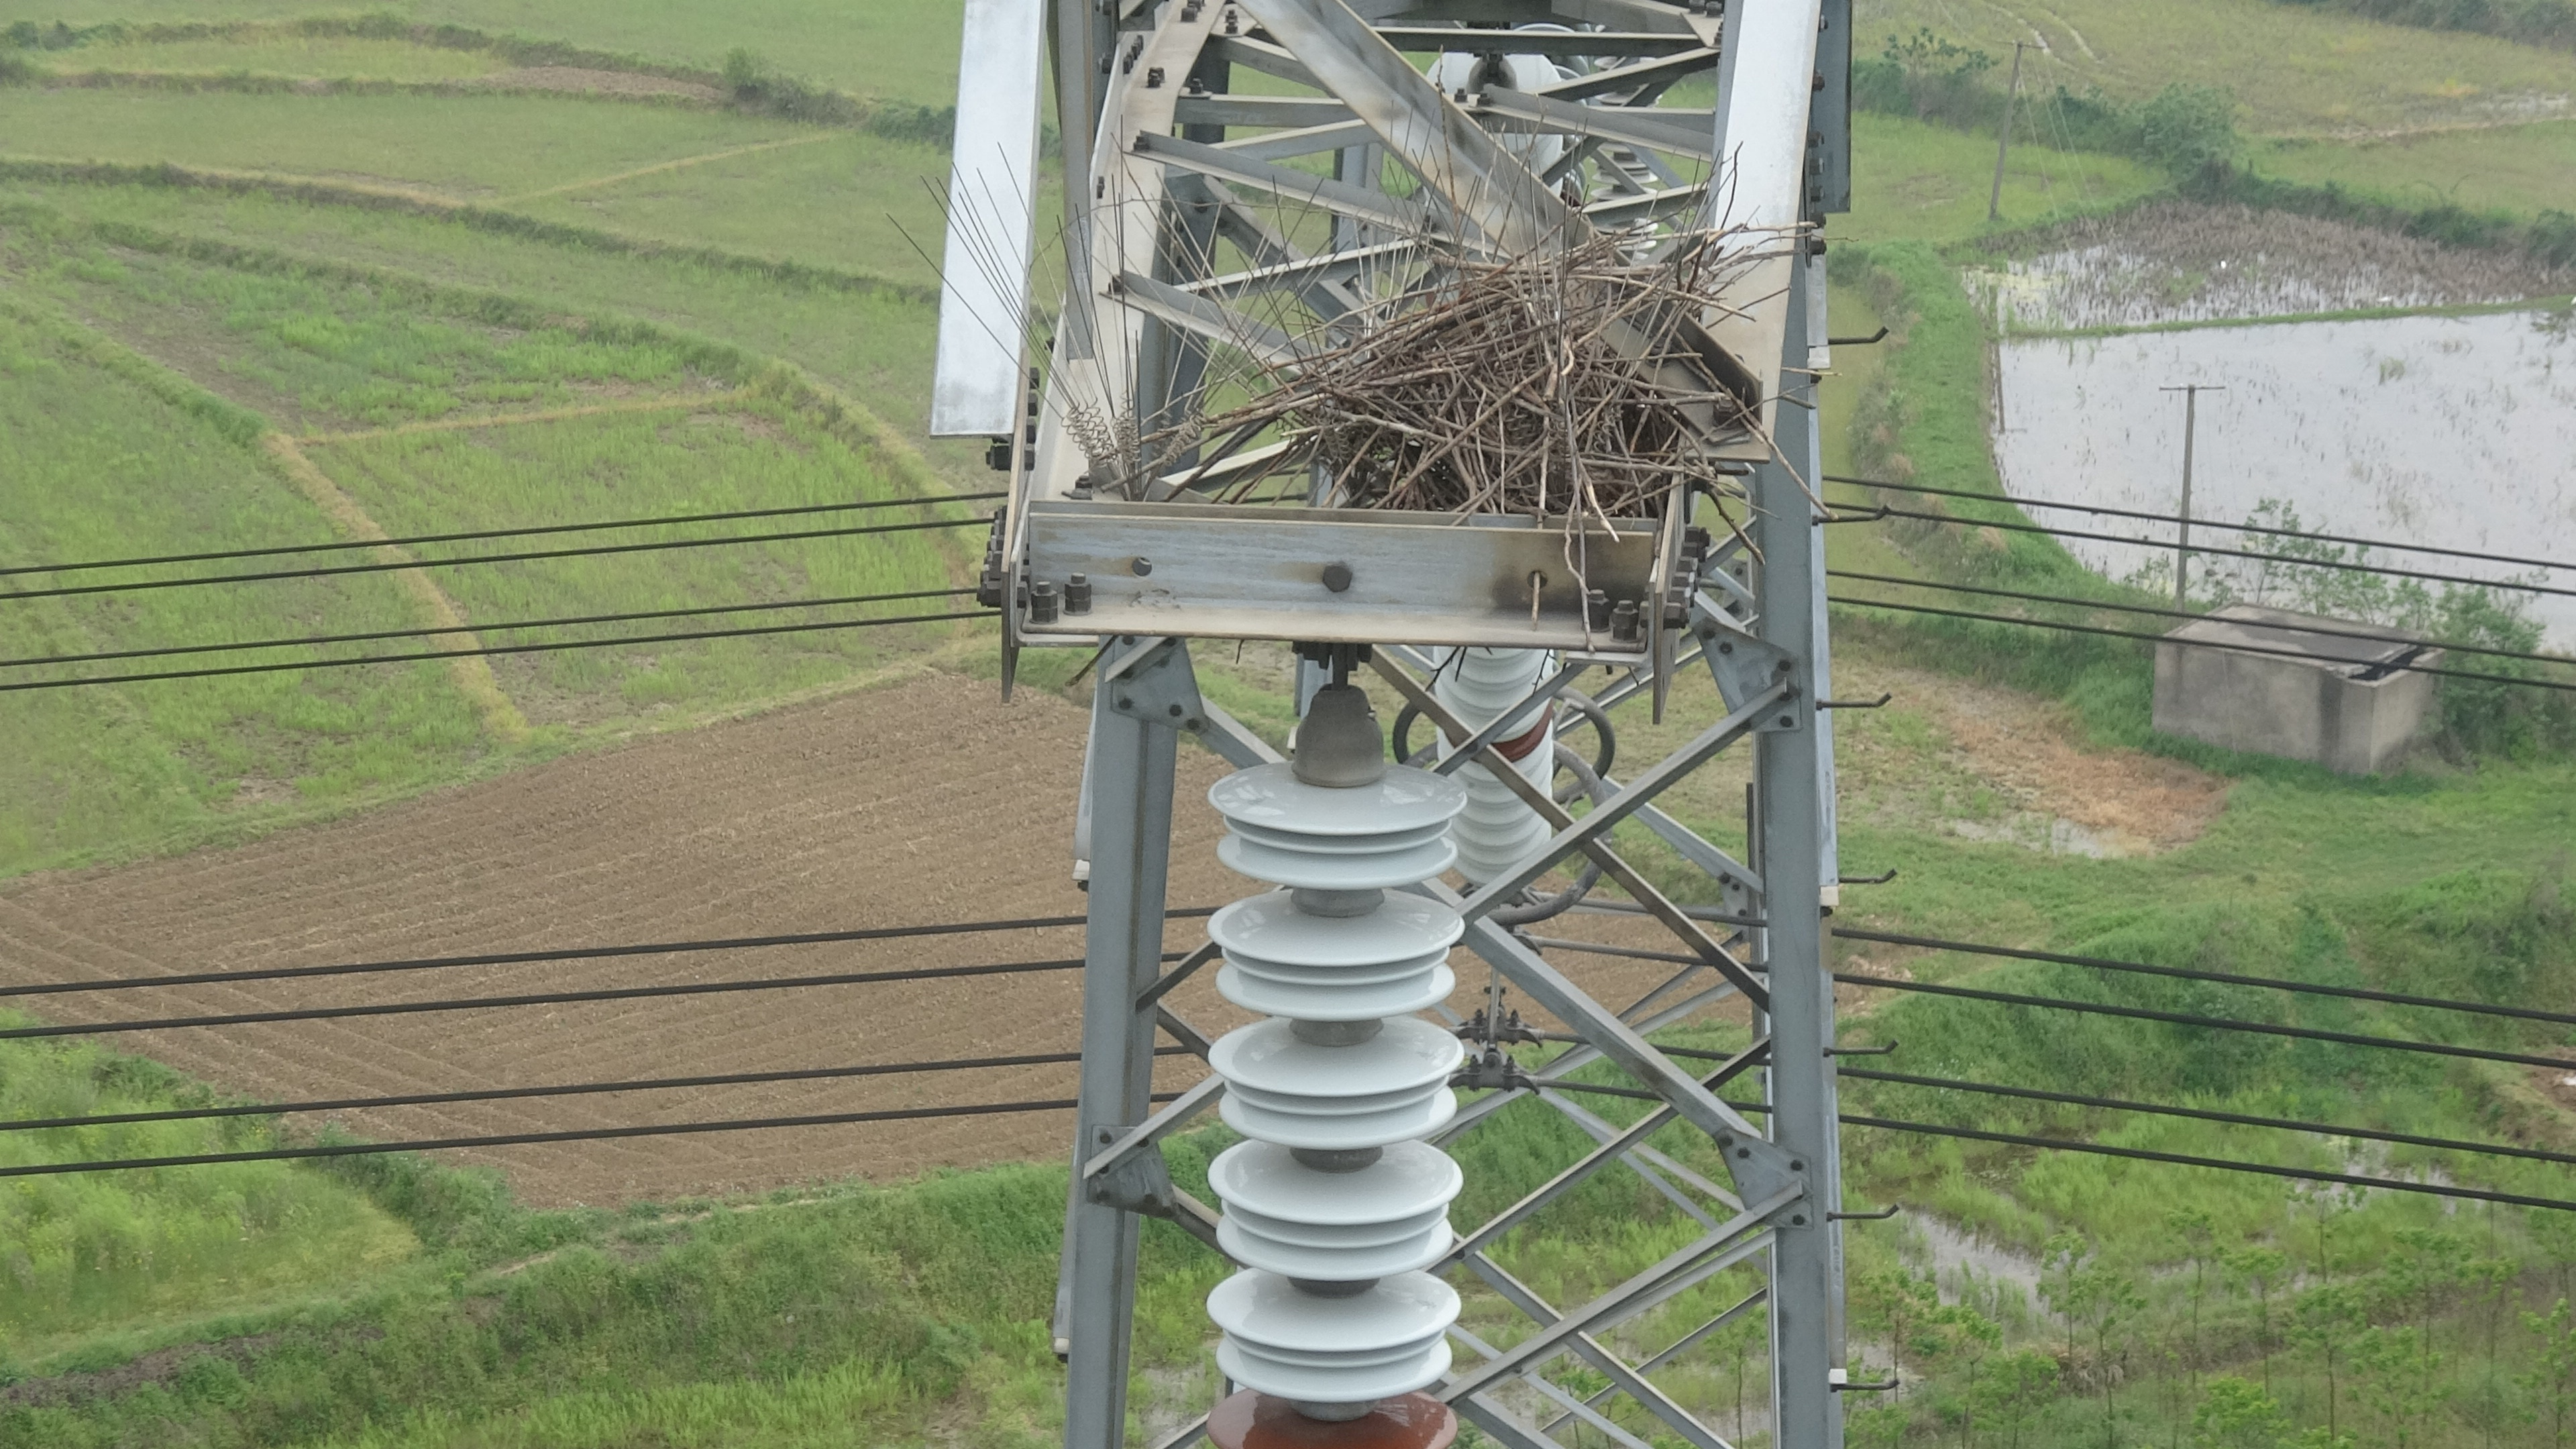niaowo: (1224, 235, 1716, 563)
